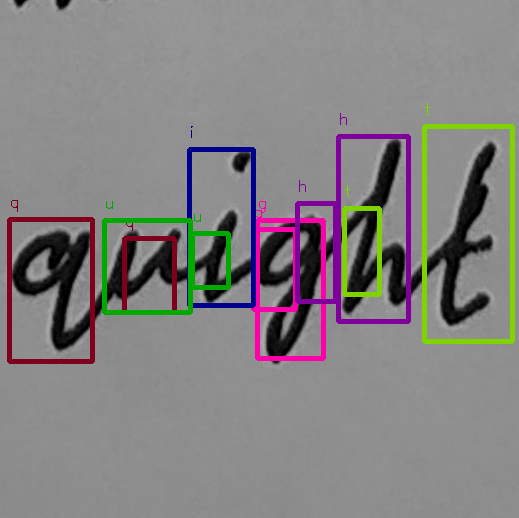g: (253, 209, 332, 366)
h: (337, 135, 417, 316)
i: (191, 144, 252, 305)
q: (8, 224, 97, 356)
t: (431, 134, 505, 329)
u: (104, 223, 188, 304)
